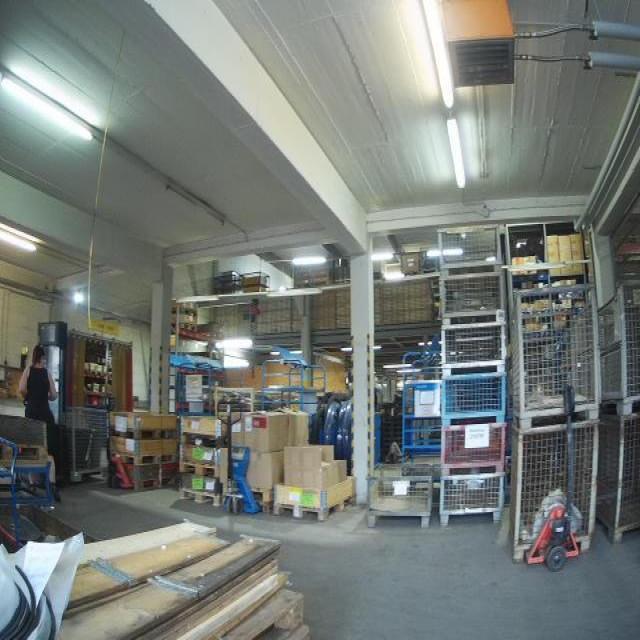pallet: (222, 587, 306, 640), (269, 487, 357, 527), (178, 483, 225, 511), (110, 424, 178, 443), (179, 429, 225, 454), (178, 461, 221, 482), (132, 475, 176, 495), (122, 452, 176, 468)
pallet_truck: (519, 377, 593, 567), (207, 396, 260, 514), (102, 432, 132, 495)
stillage: (508, 421, 607, 567), (510, 279, 602, 430), (598, 412, 640, 553), (54, 402, 116, 493), (600, 280, 638, 411), (367, 460, 430, 527), (437, 471, 508, 530), (438, 217, 505, 274), (441, 320, 510, 373), (438, 373, 510, 423), (438, 271, 511, 320), (440, 423, 509, 472)
